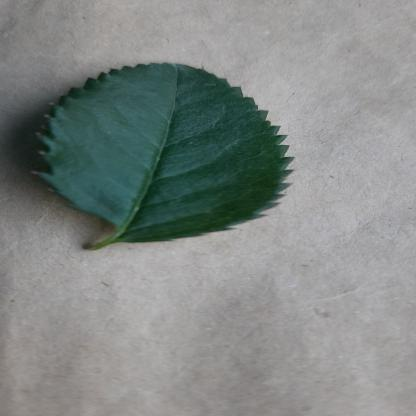normal: (37, 63, 294, 244)
